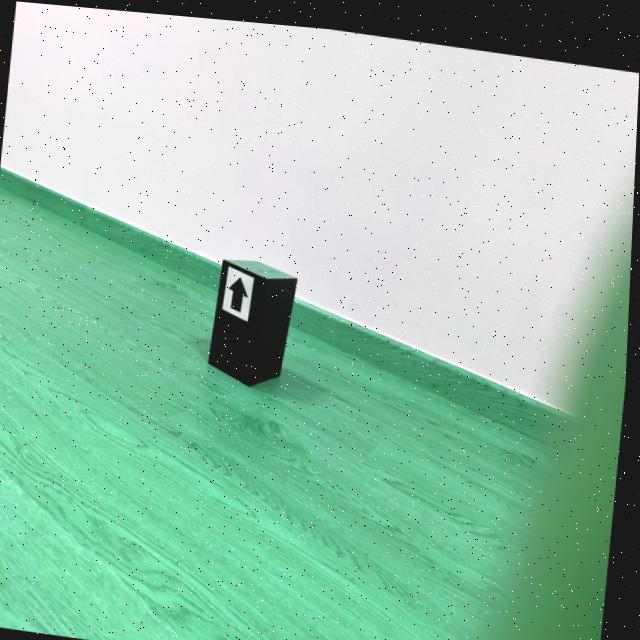UP: (231, 272, 251, 308)
